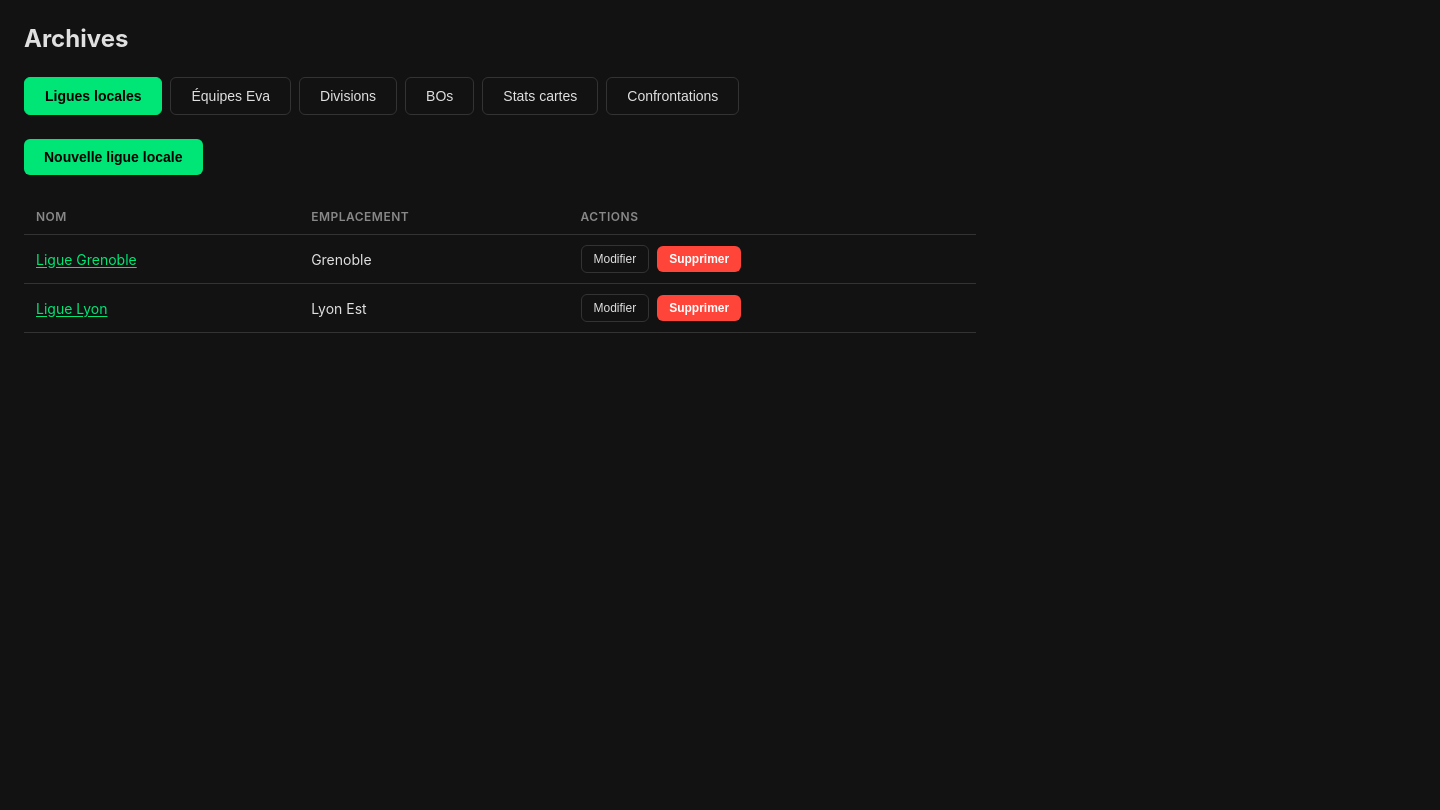
Test: ArchivePage › shows delete confirmation modal
This screenshot has width=1440, height=810.
Click the button "Supprimer" in the row of "Ligue Grenoble" at (699, 259), box [657,246,741,272]
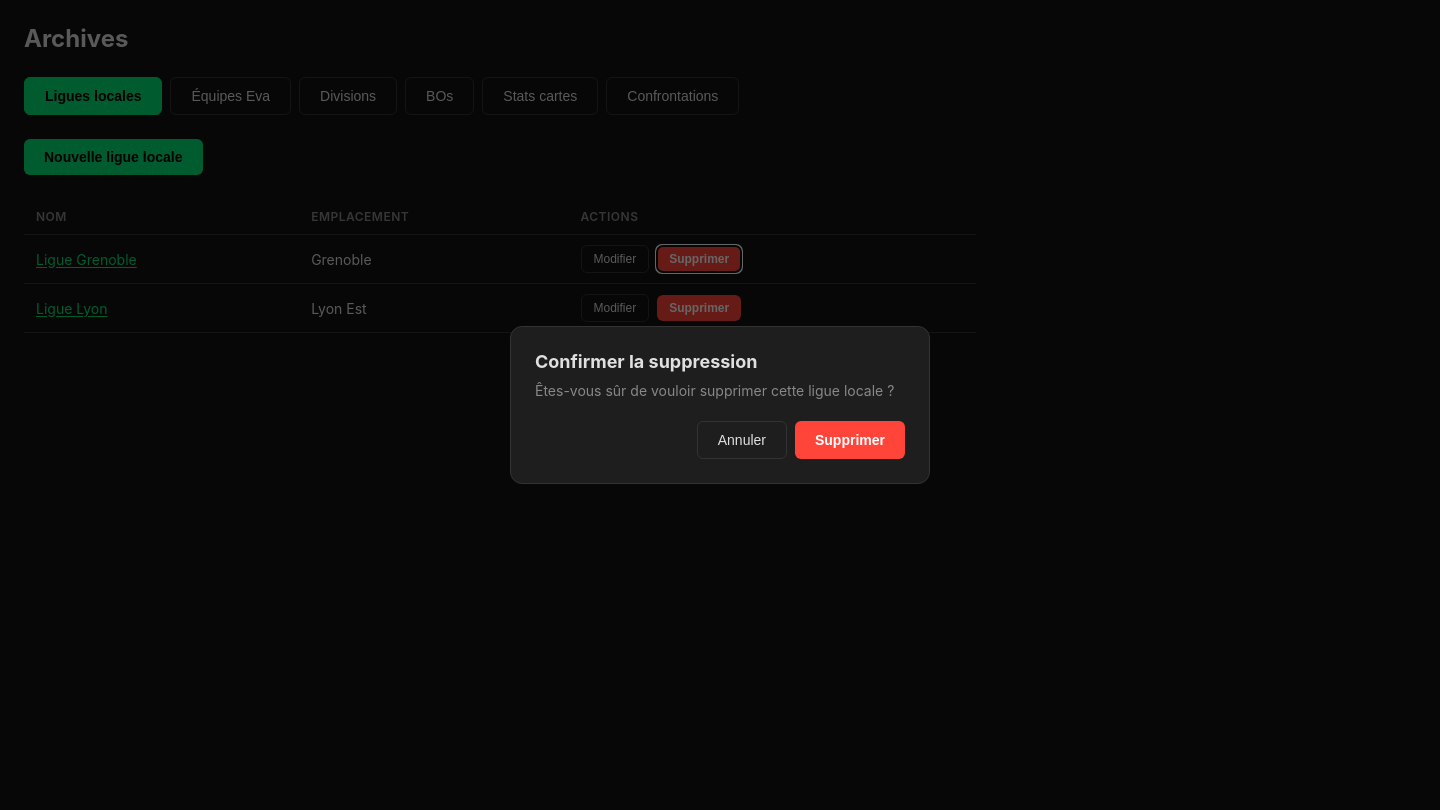
Now the heading "Confirmer la suppression" is shown, box [535,351,757,372]
Now the text "Êtes-vous sûr de vouloir supprimer cette ligue locale ?" is shown, box [535,380,905,401]
